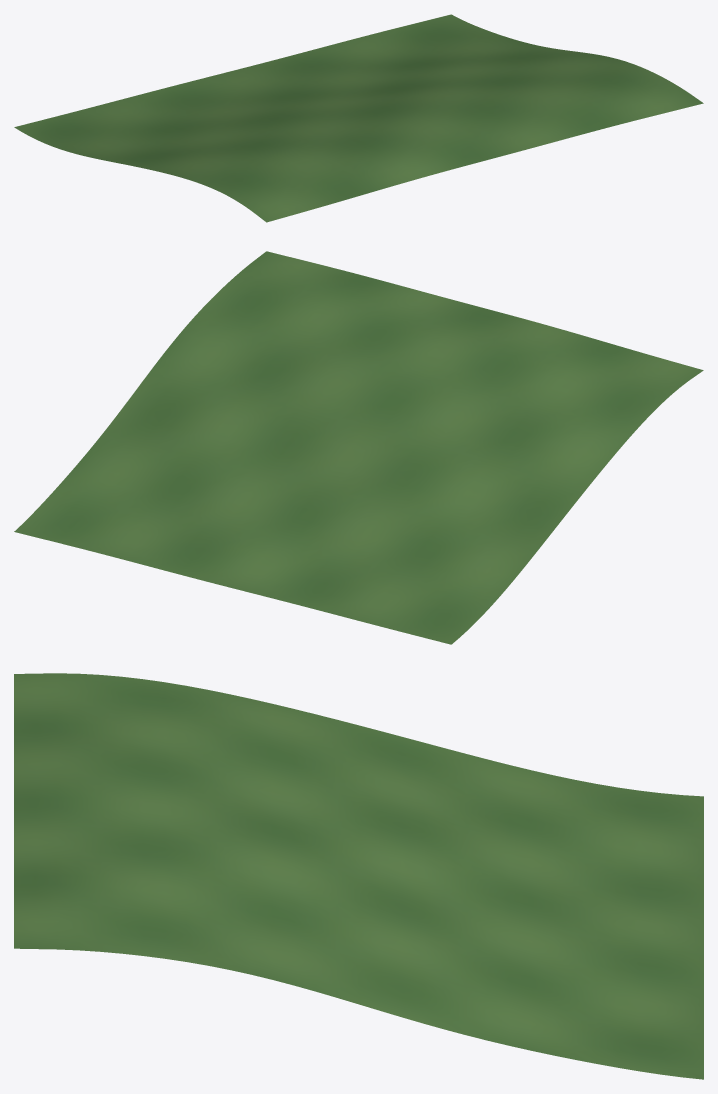
Rendered from chunk_11_12.glb.
3 views of the same model, one above another, from view 1: azimuth 30°, elevation 25°; view 2: azimuth 150°, elevation 25°; view 3: azimuth 270°, elevation 25° (orthographic). The views are drawn at different scales.
Size of the model in its own units: 512 by 115 by 512.
